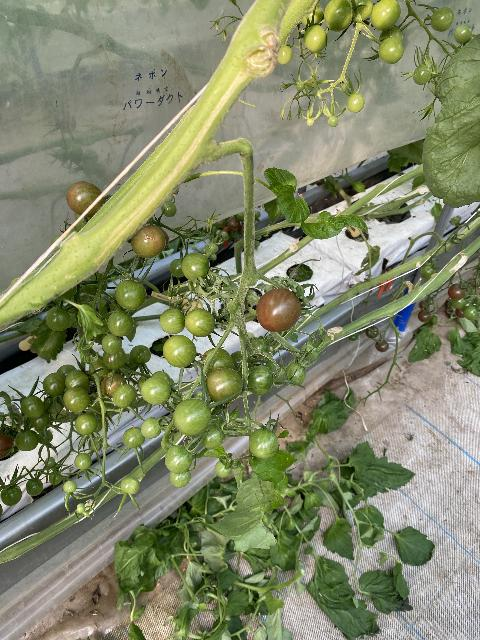l_green: (173, 398, 212, 436), (205, 368, 243, 404), (162, 334, 197, 367), (200, 348, 234, 378), (115, 280, 147, 310), (371, 0, 401, 31), (249, 428, 279, 459), (324, 0, 353, 32), (185, 308, 215, 338), (141, 376, 172, 405), (181, 252, 210, 282), (164, 445, 193, 474), (247, 365, 274, 395), (303, 24, 328, 54), (63, 386, 90, 413), (159, 306, 185, 334), (89, 355, 114, 384), (378, 37, 404, 64), (107, 311, 134, 337), (80, 271, 108, 296), (45, 306, 71, 332), (200, 423, 225, 449), (112, 383, 137, 408), (301, 2, 324, 29), (430, 7, 454, 32), (20, 395, 45, 419), (42, 372, 65, 397), (347, 0, 373, 22), (230, 351, 252, 377), (65, 370, 91, 392), (284, 362, 307, 386), (103, 347, 127, 370), (75, 413, 98, 435), (15, 430, 39, 451), (0, 485, 23, 506), (140, 417, 161, 439), (123, 427, 145, 448), (379, 27, 403, 46), (101, 333, 122, 354), (453, 23, 473, 45), (43, 394, 65, 414), (250, 338, 271, 358), (169, 469, 191, 488), (129, 345, 151, 363), (413, 65, 432, 85), (30, 411, 51, 429), (346, 93, 365, 112), (301, 342, 319, 361), (25, 478, 44, 496), (120, 477, 140, 494), (169, 258, 185, 278), (215, 459, 232, 477), (277, 45, 292, 65), (57, 364, 77, 379), (75, 453, 92, 470), (161, 201, 177, 217), (151, 371, 170, 384), (89, 437, 103, 452), (38, 431, 54, 444), (204, 242, 218, 255), (49, 472, 63, 485), (63, 480, 77, 493), (306, 78, 317, 91), (328, 115, 339, 127), (45, 457, 56, 468), (296, 83, 305, 92), (306, 117, 314, 126), (77, 503, 84, 513)
l_half_ripened: (256, 288, 302, 332), (66, 181, 105, 218), (131, 225, 166, 258), (100, 372, 127, 397), (0, 434, 13, 458)
